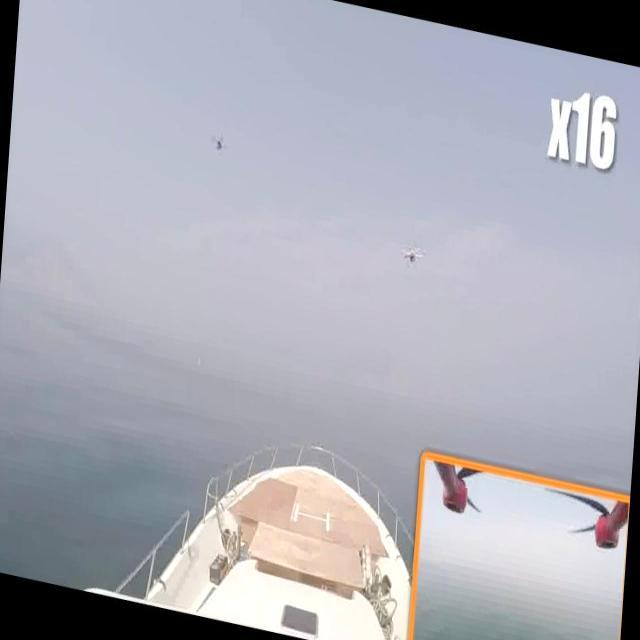drone: (396, 235, 429, 278), (204, 128, 231, 160)
